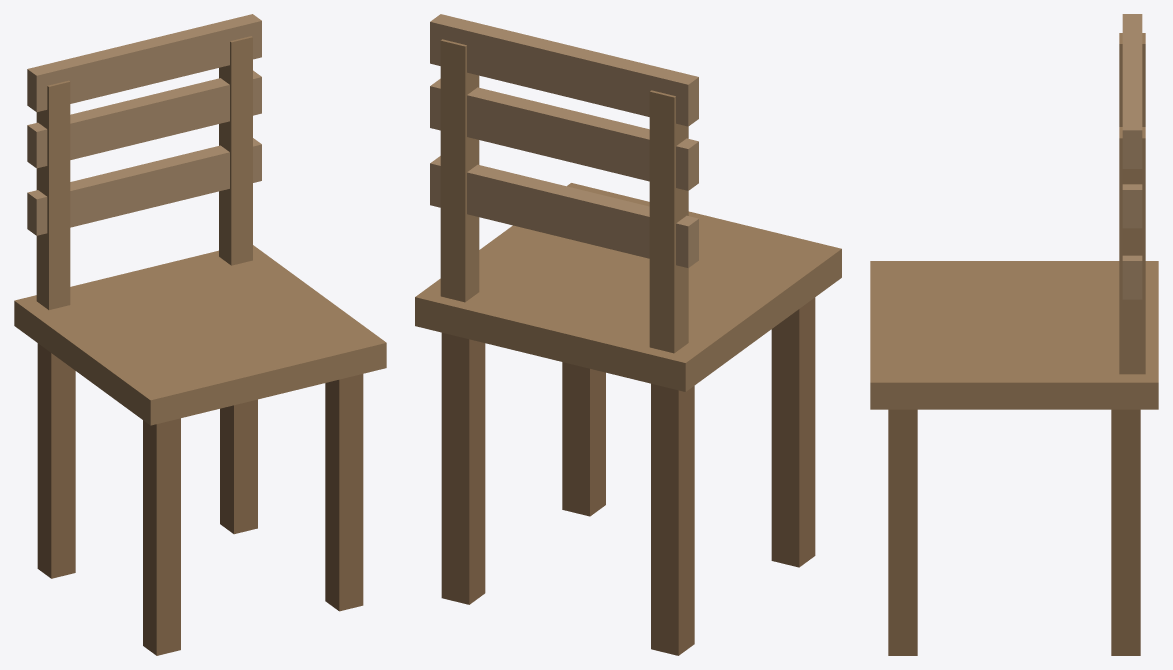
File: chair.glb
3 views of the same model, side by side, from view 1: azimuth 30°, elevation 25°; view 2: azimuth 150°, elevation 25°; view 3: azimuth 270°, elevation 25° (orthographic). The views are drawn at different scales.
Visible parts, largest first — view 1: geometry_0; view 2: geometry_0; view 3: geometry_0.
Boxes of the visible parts, x1,y1,x2,y2 form: geometry_0: (14,14,386,655); geometry_0: (415,14,841,655); geometry_0: (870,14,1158,655).
Bounding box in the file's own units: 0.44 × 0.8925 × 0.44.
